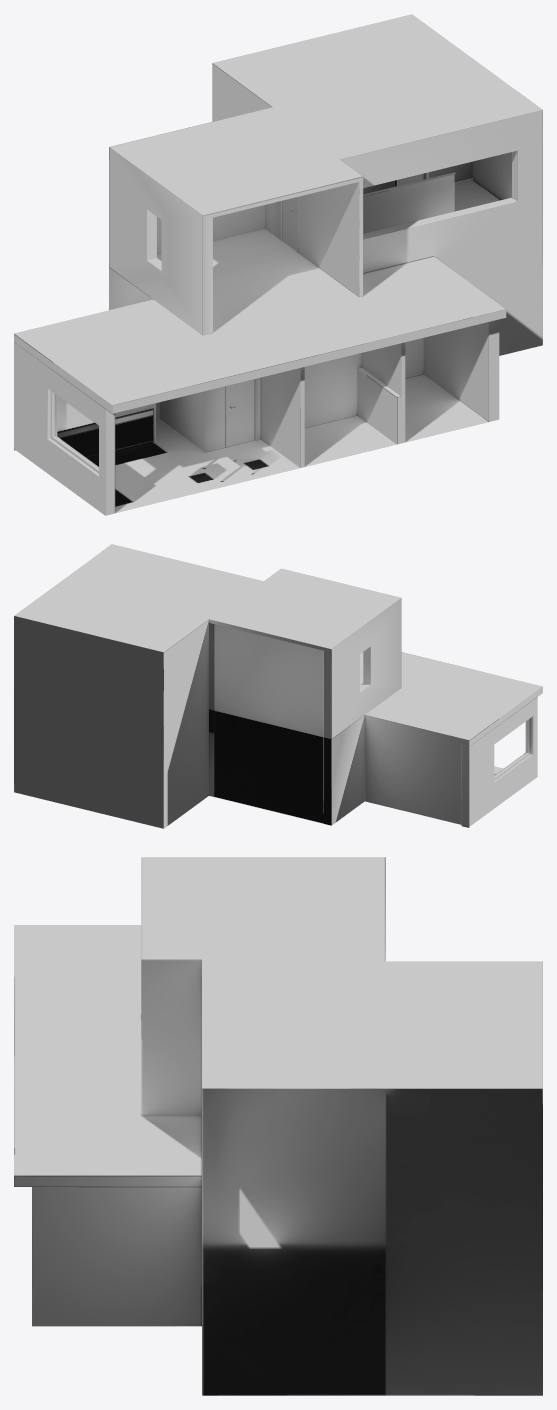
The picture shows the model from 3 angles, top to bottom: view 1: azimuth 30°, elevation 25°; view 2: azimuth 150°, elevation 25°; view 3: azimuth 270°, elevation 25°; orthographic projection. The views are drawn at different scales.
Visible parts, largest first — view 1: Walls_Baked; view 2: Walls_Baked; view 3: Walls_Baked.
Part boxes in pixels (x1,y1,x2,y2): Walls_Baked: [14, 14, 542, 515]; Walls_Baked: [14, 544, 542, 828]; Walls_Baked: [14, 857, 542, 1395].
Bounding box in the file's own units: 12.31 × 5.54 × 8.6.
Materials: 1 (1 with a texture image).
